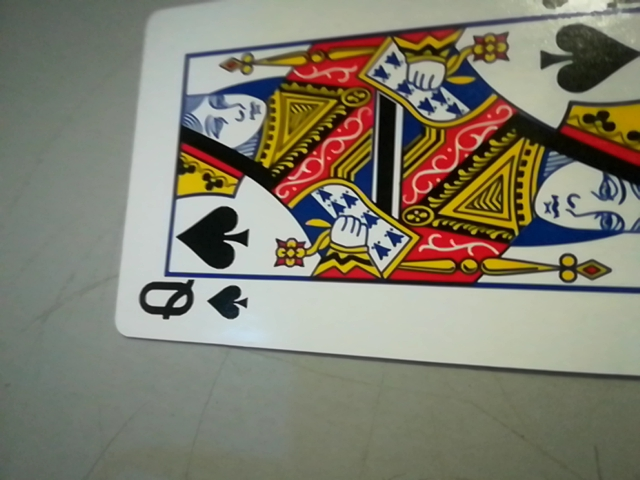ht q: (119, 264, 258, 336)
